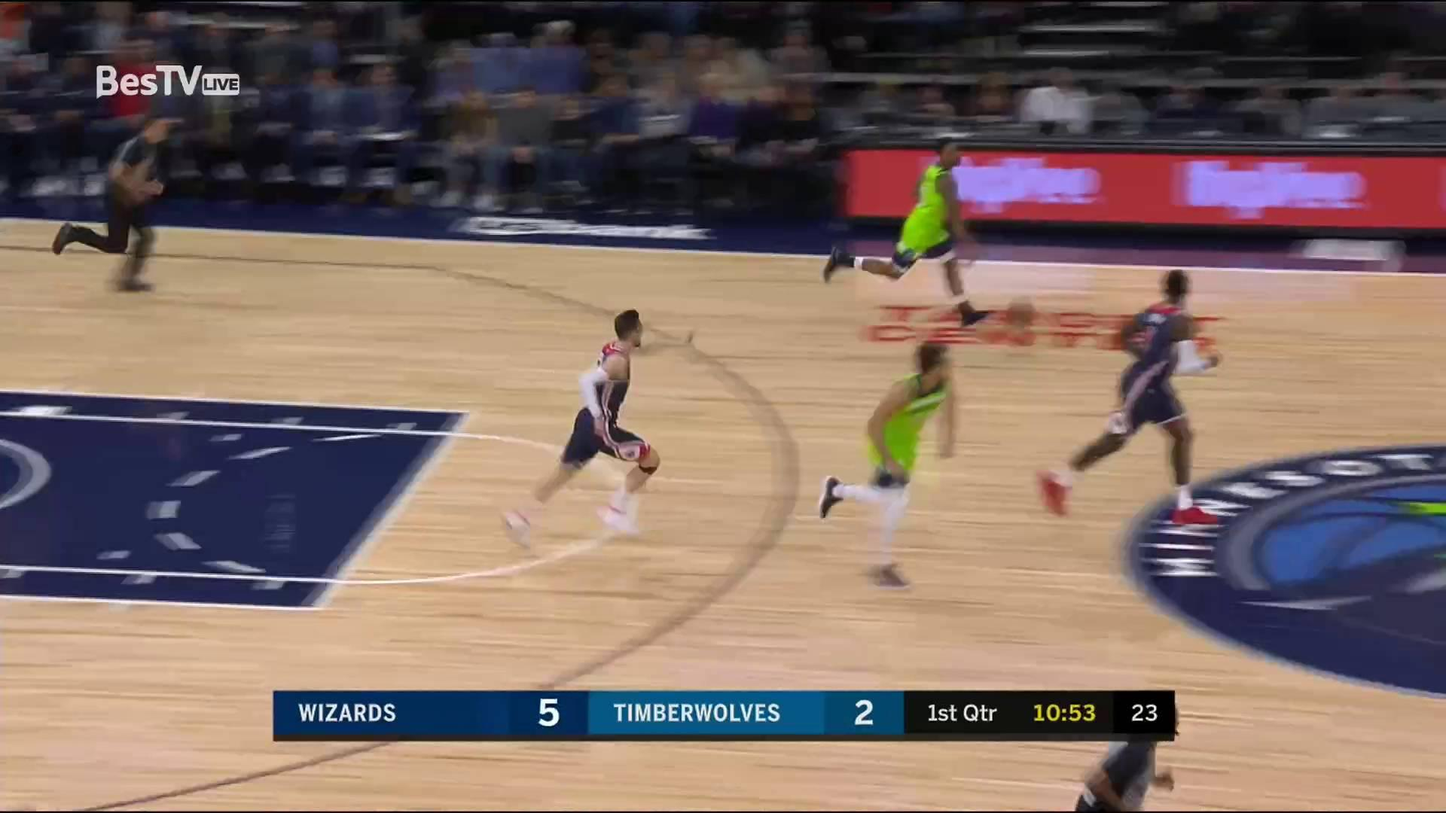basketball: (1006, 295, 1037, 327)
